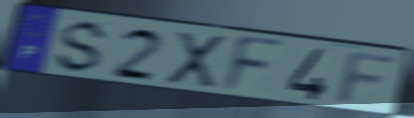2: (108, 27, 167, 83)
4: (285, 47, 330, 102)
F: (218, 34, 287, 96), (331, 50, 404, 108)
S: (51, 19, 112, 76)
X: (165, 30, 228, 90)
